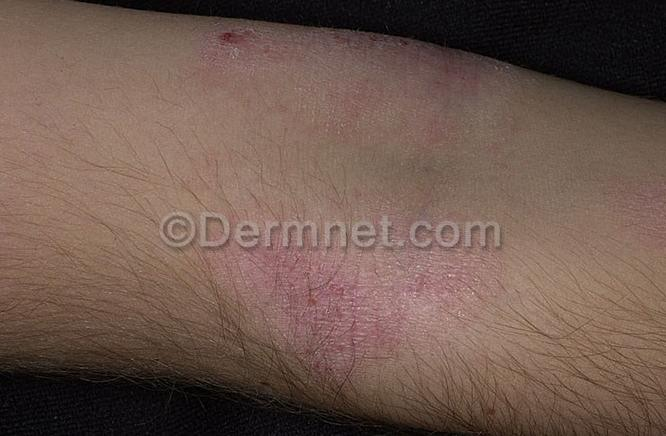eritema 1: (208, 12, 493, 342)
excoriacion 2: (210, 20, 492, 341)
exudacion 1: (205, 11, 418, 80)
xerosis 2: (206, 10, 511, 356)
